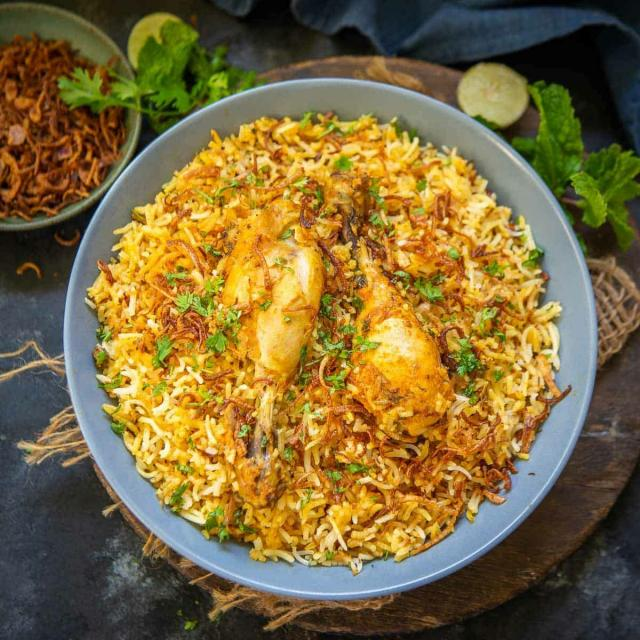Biryani: (83, 110, 565, 564)
